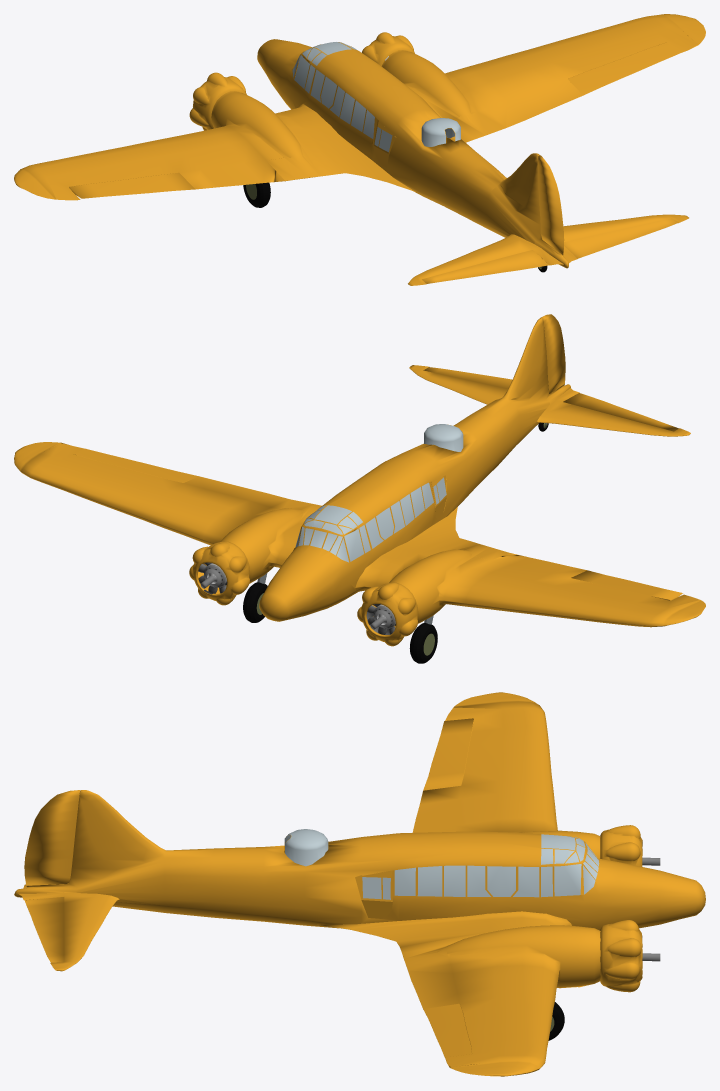
The model's file is staticAnsonMk1.glb.
The picture shows the model from 3 angles, top to bottom: view 1: azimuth 30°, elevation 25°; view 2: azimuth 150°, elevation 25°; view 3: azimuth 270°, elevation 25°; orthographic projection. The views are drawn at different scales.
Visible parts, largest first — view 1: fuselage, mainWingLt, mainWingRt, hStab, aileronRt, aileronLt, doorPort, WheelLt; view 2: fuselage, mainWingLt, mainWingRt, hStab, aileronRt, aileronLt, WheelLt, WheelLt.001; view 3: fuselage, mainWingRt, mainWingLt, hStab, aileronLt, aileronRt, doorStarb.
Boxes of the visible parts, x1,y1,x2,y2 form: fuselage: (257,39,568,272); mainWingLt: (14,72,415,200); mainWingRt: (362,14,705,142); hStab: (408,214,688,285); aileronRt: (568,42,678,95); aileronLt: (69,173,195,198); doorPort: (373,120,395,167); WheelLt: (243,182,270,207); fuselage: (259,314,570,621); mainWingLt: (355,506,705,646); mainWingRt: (14,442,321,605); hStab: (409,365,690,436); aileronRt: (73,448,198,482); aileronLt: (571,570,682,600); WheelLt: (409,615,437,663); WheelLt.001: (243,573,267,622); fuselage: (14,790,705,930); mainWingRt: (311,911,660,1076); mainWingLt: (412,692,660,866); hStab: (18,884,119,971); aileronLt: (423,718,473,790); aileronRt: (423,1003,472,1057); doorStarb: (355,870,392,918).
Size of the model in its own units: 17.18 by 4.29 by 13.16.
Materials: 8 (8 with a texture image).
